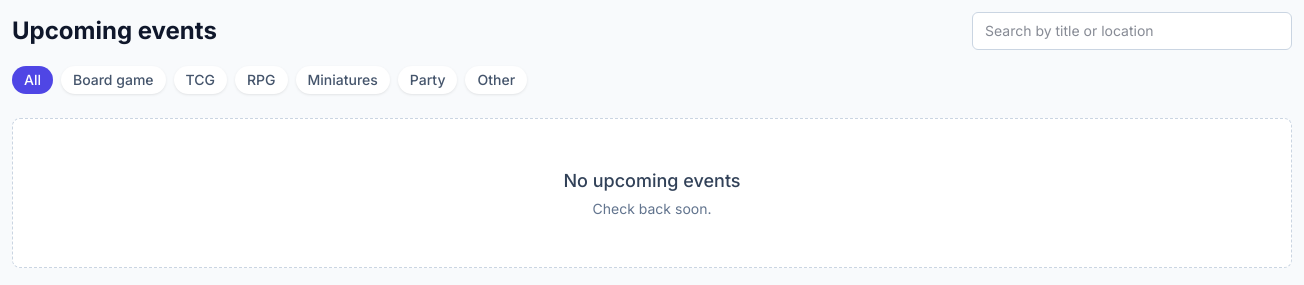
it: EventList › filters by game type chip and marks it pressed
The width and height of the screenshot is (1304, 285).
expect the text "No upcoming events" is shown: met, box [563,170,740,191]
What coordinates should you click on to do the following:
click the button "TCG"
I would click on:
 (200, 80)
Its box is [174,66,227,94].
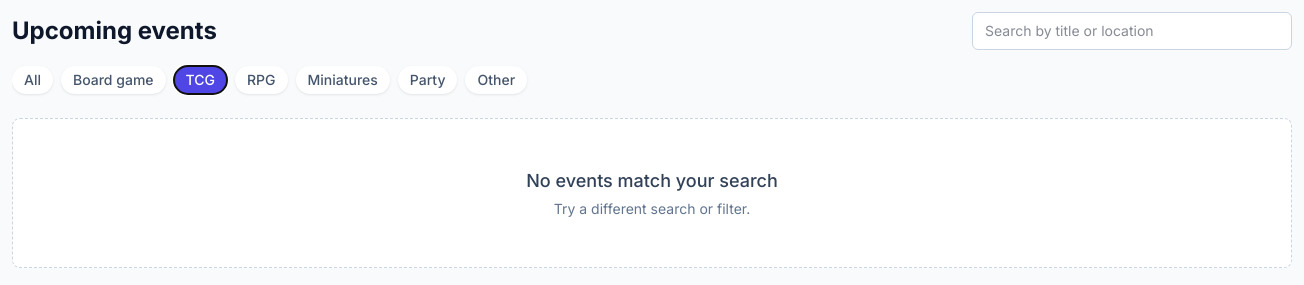
expect the text "No events match your search" is shown: met, box [526,170,778,191]
